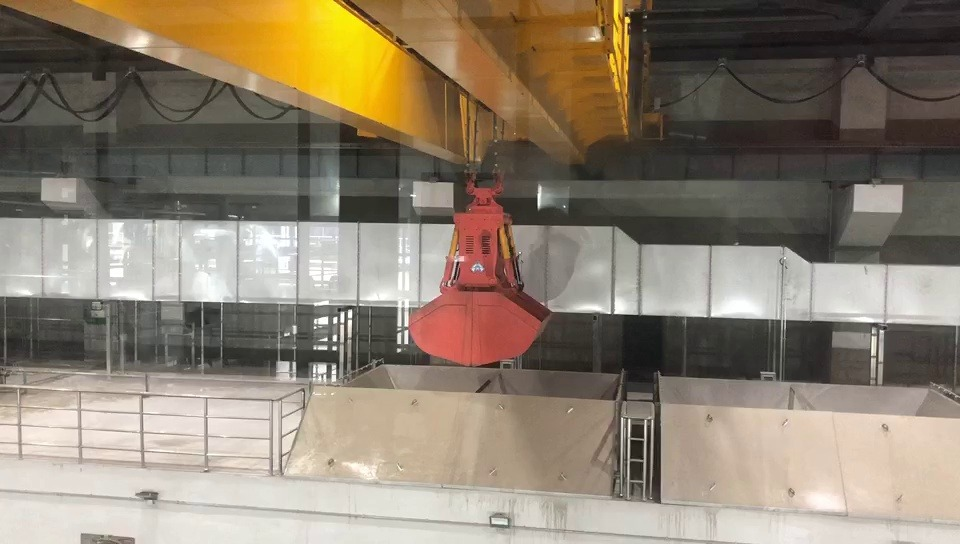grab: (401, 164, 558, 369)
